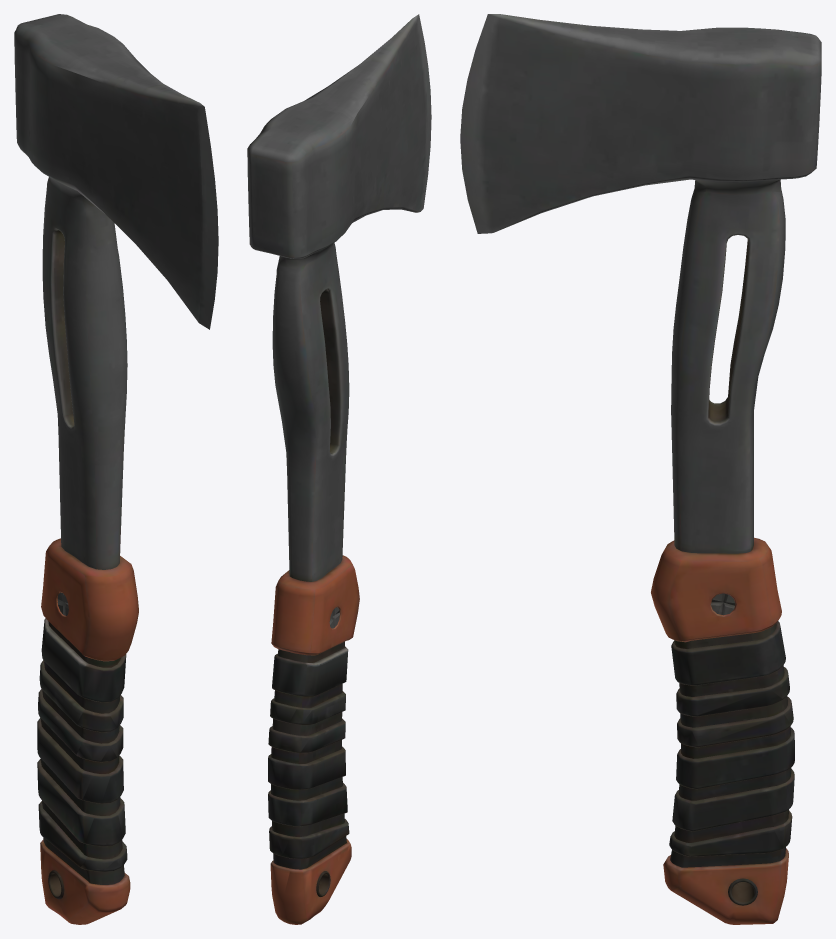
Rendered from hatchet.glb.
The picture shows the model from 3 angles, left to right: view 1: azimuth 30°, elevation 25°; view 2: azimuth 150°, elevation 25°; view 3: azimuth 270°, elevation 25°; orthographic projection. The views are drawn at different scales.
Visible parts, largest first — view 1: hatchet; view 2: hatchet; view 3: hatchet.
Part boxes in pixels (<box>): hatchet: <box>14,14,218,924</box>; hatchet: <box>247,14,431,924</box>; hatchet: <box>460,14,821,924</box>.
Bounding box in the file's own units: 0.026 × 0.2887 × 0.1043.
1 material, 1 textured.
